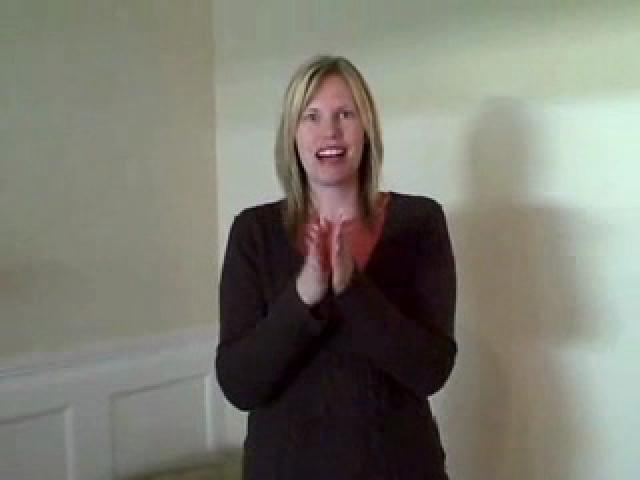F: (204, 49, 464, 480)
